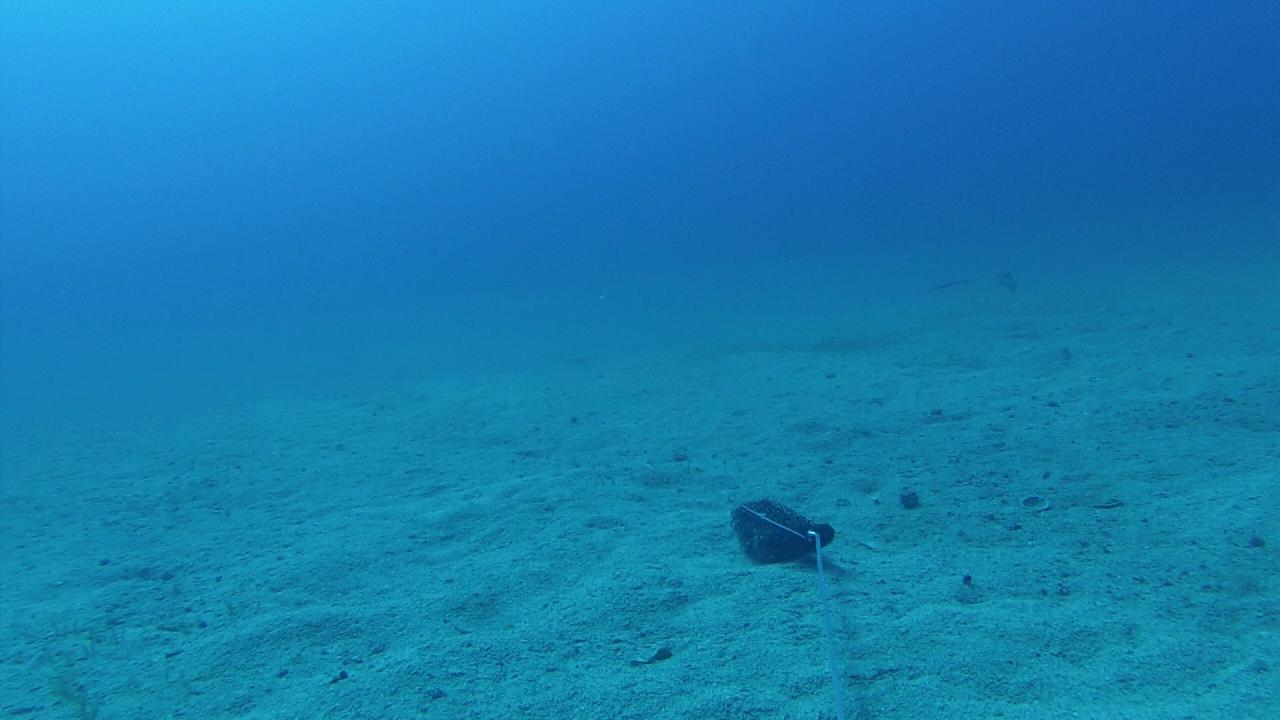dasyatis: (923, 270, 1021, 295)
